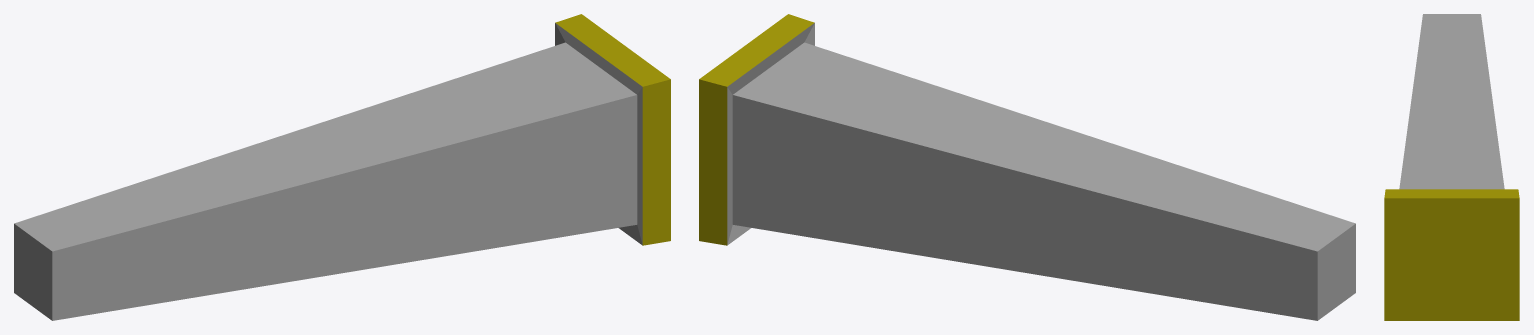
File: Turn Button.fbx
3 renders of one model, left to right at view 1: azimuth 30°, elevation 25°; view 2: azimuth 150°, elevation 25°; view 3: azimuth 270°, elevation 25°, orthographic. The views are drawn at different scales.
Visible parts, largest first — view 1: Turn_Lever; view 2: Turn_Lever; view 3: Turn_Lever.
Boxes of the visible parts, x1,y1,x2,y2 form: Turn_Lever: [14, 14, 670, 320]; Turn_Lever: [699, 14, 1355, 320]; Turn_Lever: [1384, 14, 1519, 320].
Bounding box in the file's own units: 1.3 × 0.339 × 0.339.
